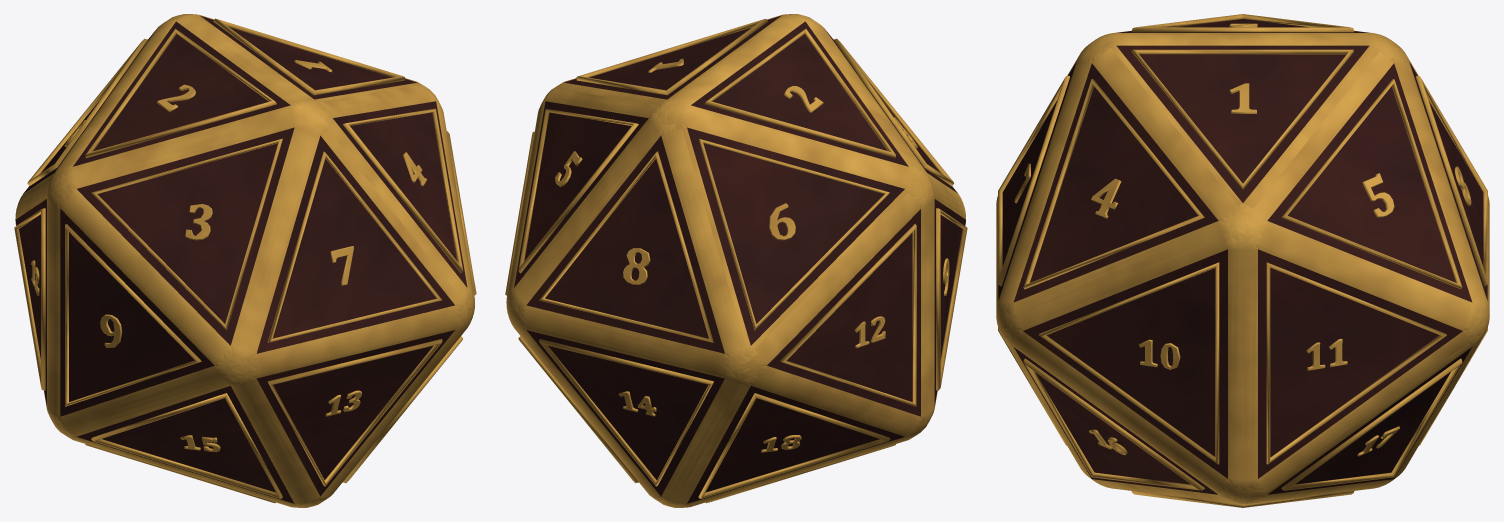
3 renders of one model, left to right at view 1: azimuth 30°, elevation 25°; view 2: azimuth 150°, elevation 25°; view 3: azimuth 270°, elevation 25°, orthographic. The views are drawn at different scales.
Visible parts, largest first — view 1: D20; view 2: D20; view 3: D20.
Part boxes in pixels (x1,y1,x2,y2): D20: [14, 14, 476, 507]; D20: [505, 14, 967, 507]; D20: [996, 14, 1489, 507].
Bounding box in the file's own units: 0.8291 × 0.8291 × 0.8291.
Materials: 2 (2 with a texture image).
